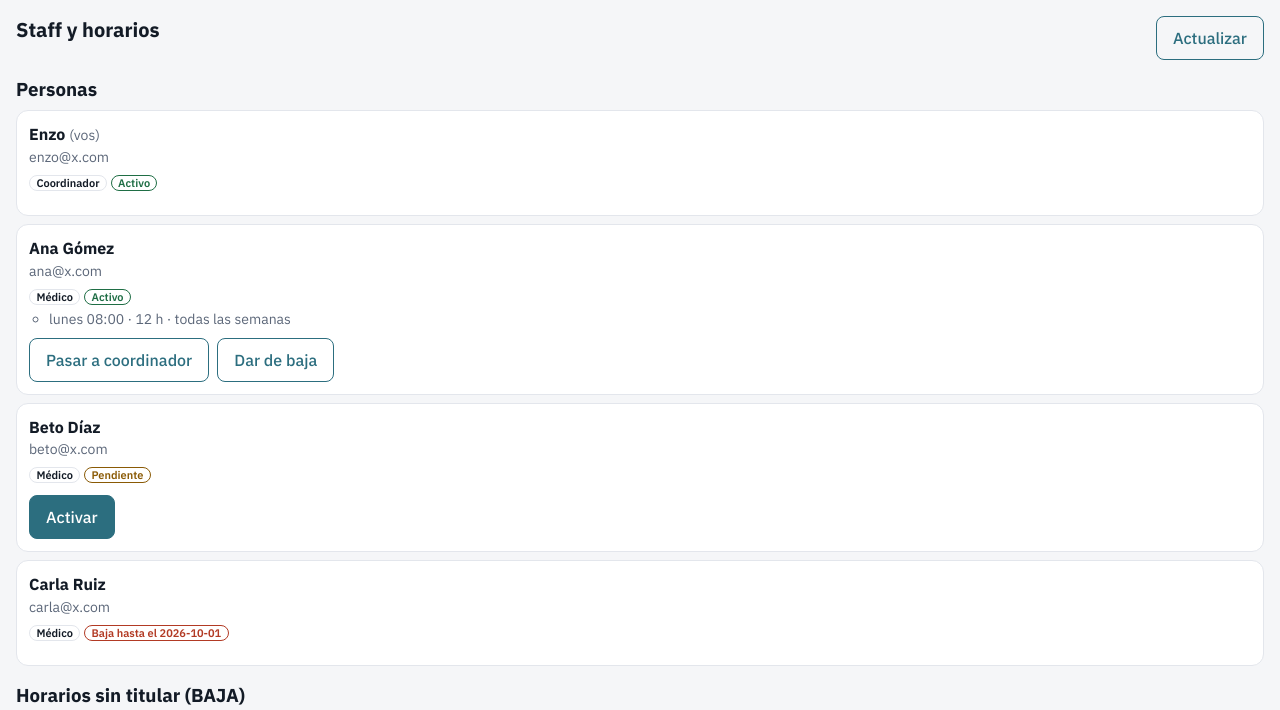
it: PantallaStaff › cambiar el rol pide confirmación, manda el rol y muestra lo reabierto
expect the heading "Staff y horarios" is shown: met, box [16,16,160,44]
Click the button "Pasar a coordinador" at [119, 360], box [29,338,209,382]
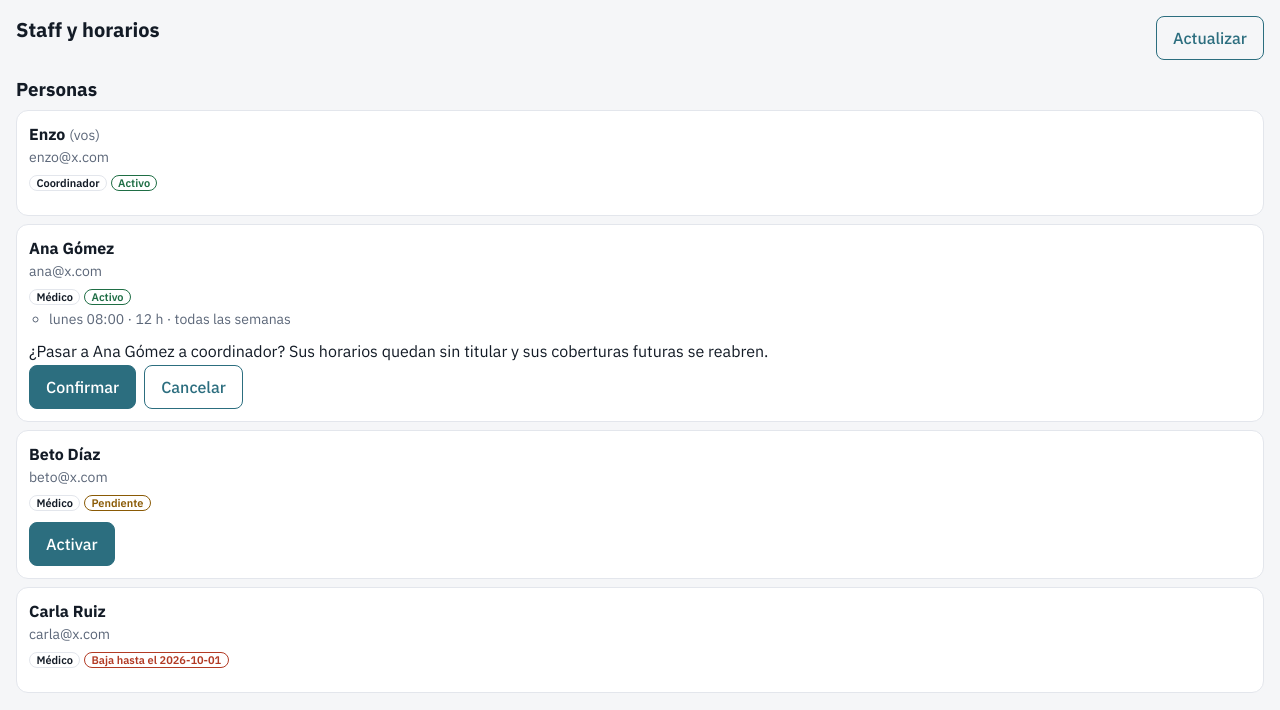
Click the button "Confirmar" at [83, 387], box [29,365,136,409]
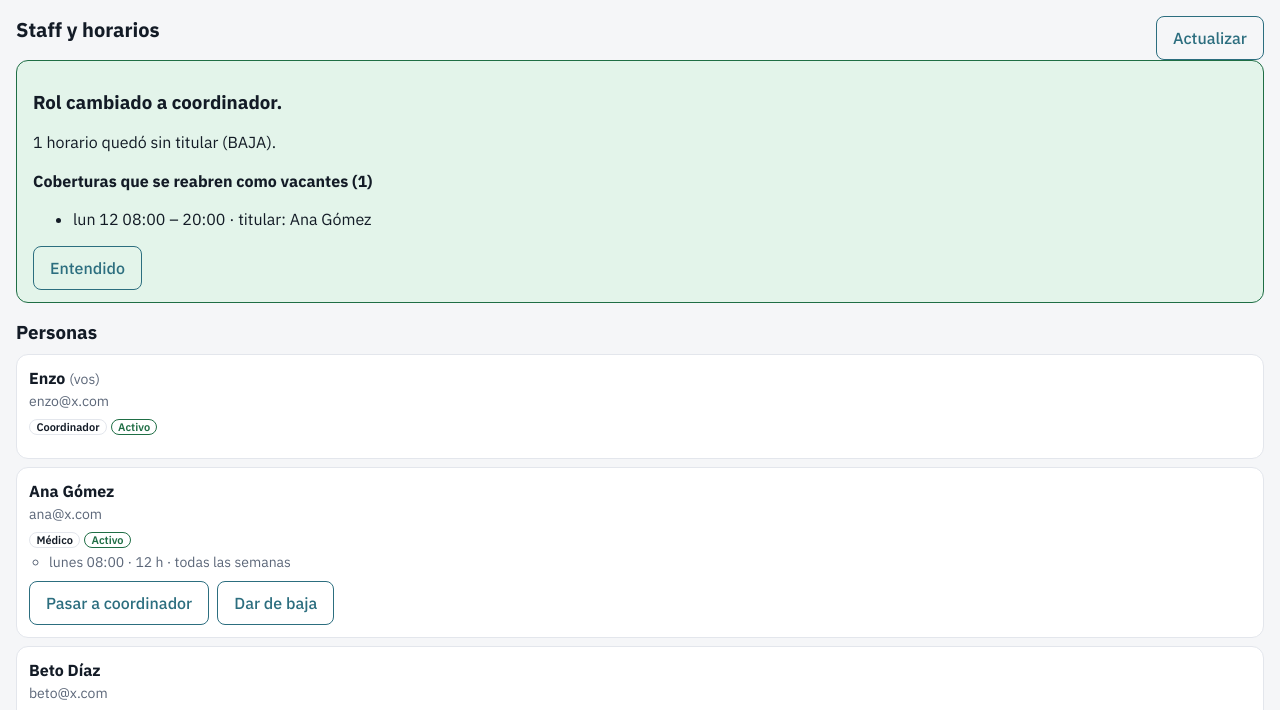
expect the heading "Rol cambiado a coordinador." is shown: met, box [33,90,282,114]
expect the text "1 horario quedó sin titular (BAJA)." is shown: met, box [33,132,276,152]
expect the heading "Coberturas que se reabren como vacantes (1)" is shown: met, box [33,171,372,191]
